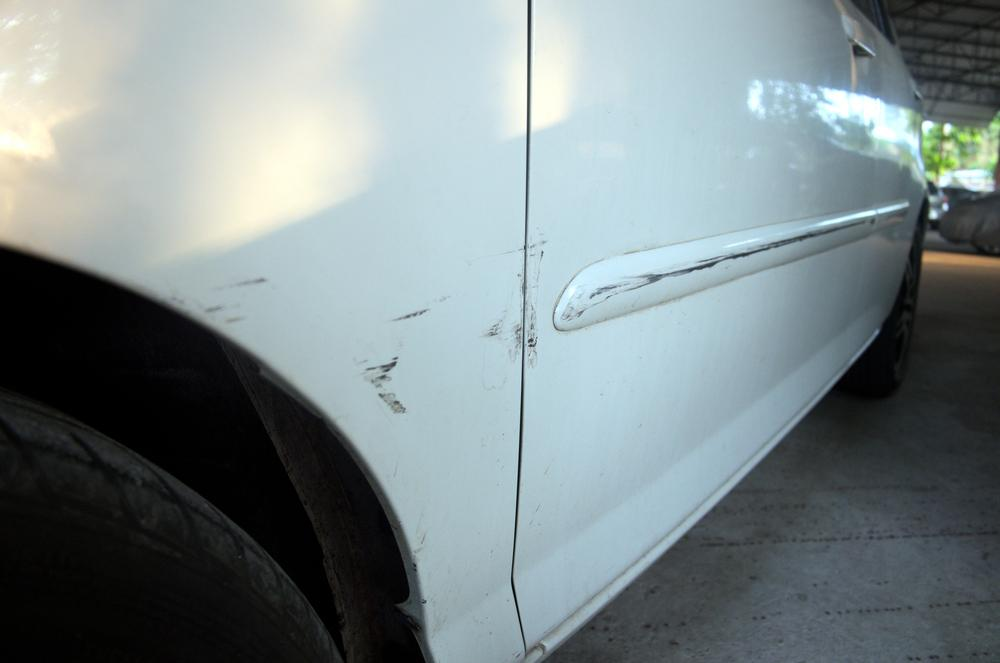scratch: (559, 215, 874, 327), (359, 290, 463, 417), (185, 272, 277, 338), (481, 257, 527, 363), (524, 239, 543, 366)
